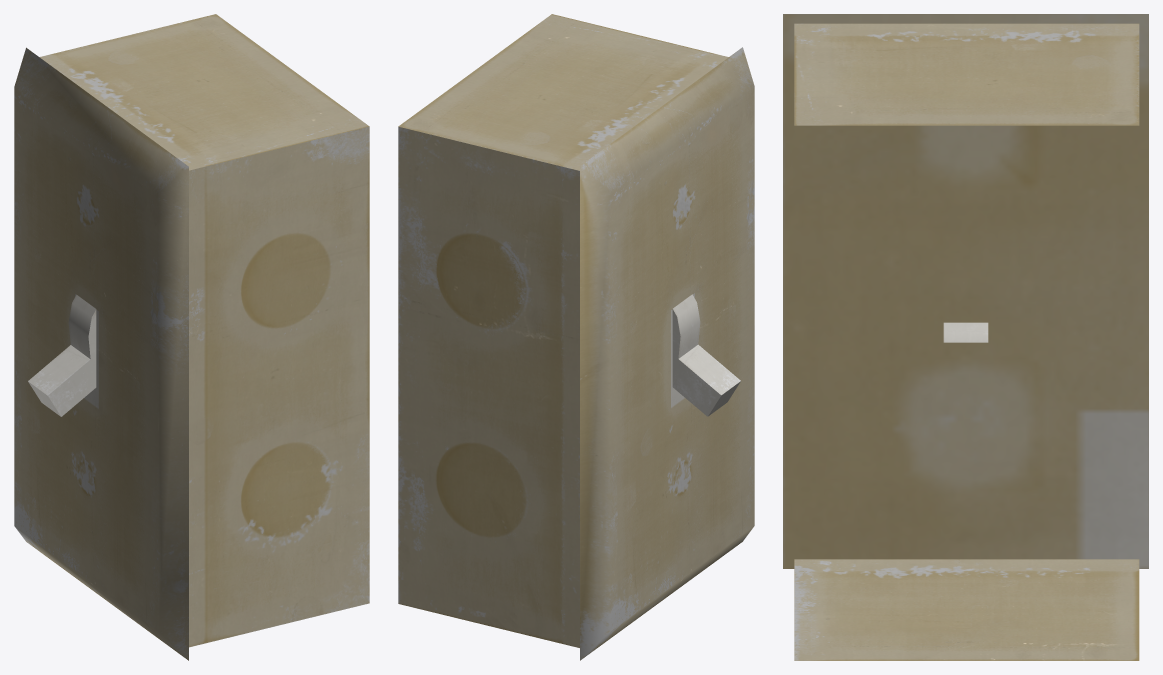
Rendered from SM_Light_Switch_01a.fbx.
3 renders of one model, left to right at view 1: azimuth 30°, elevation 25°; view 2: azimuth 150°, elevation 25°; view 3: azimuth 270°, elevation 25°, orthographic. The views are drawn at different scales.
Visible parts, largest first — view 1: SM_Light_Switch_01a_LOD0; view 2: SM_Light_Switch_01a_LOD0; view 3: SM_Light_Switch_01a_LOD0.
Boxes of the visible parts, <box> form: SM_Light_Switch_01a_LOD0: <box>14,14,369,660</box>; SM_Light_Switch_01a_LOD0: <box>398,14,754,660</box>; SM_Light_Switch_01a_LOD0: <box>783,14,1148,660</box>.
Bounding box in the file's own units: 10.6 × 11.7 × 19.59.
1 material, 1 textured.
